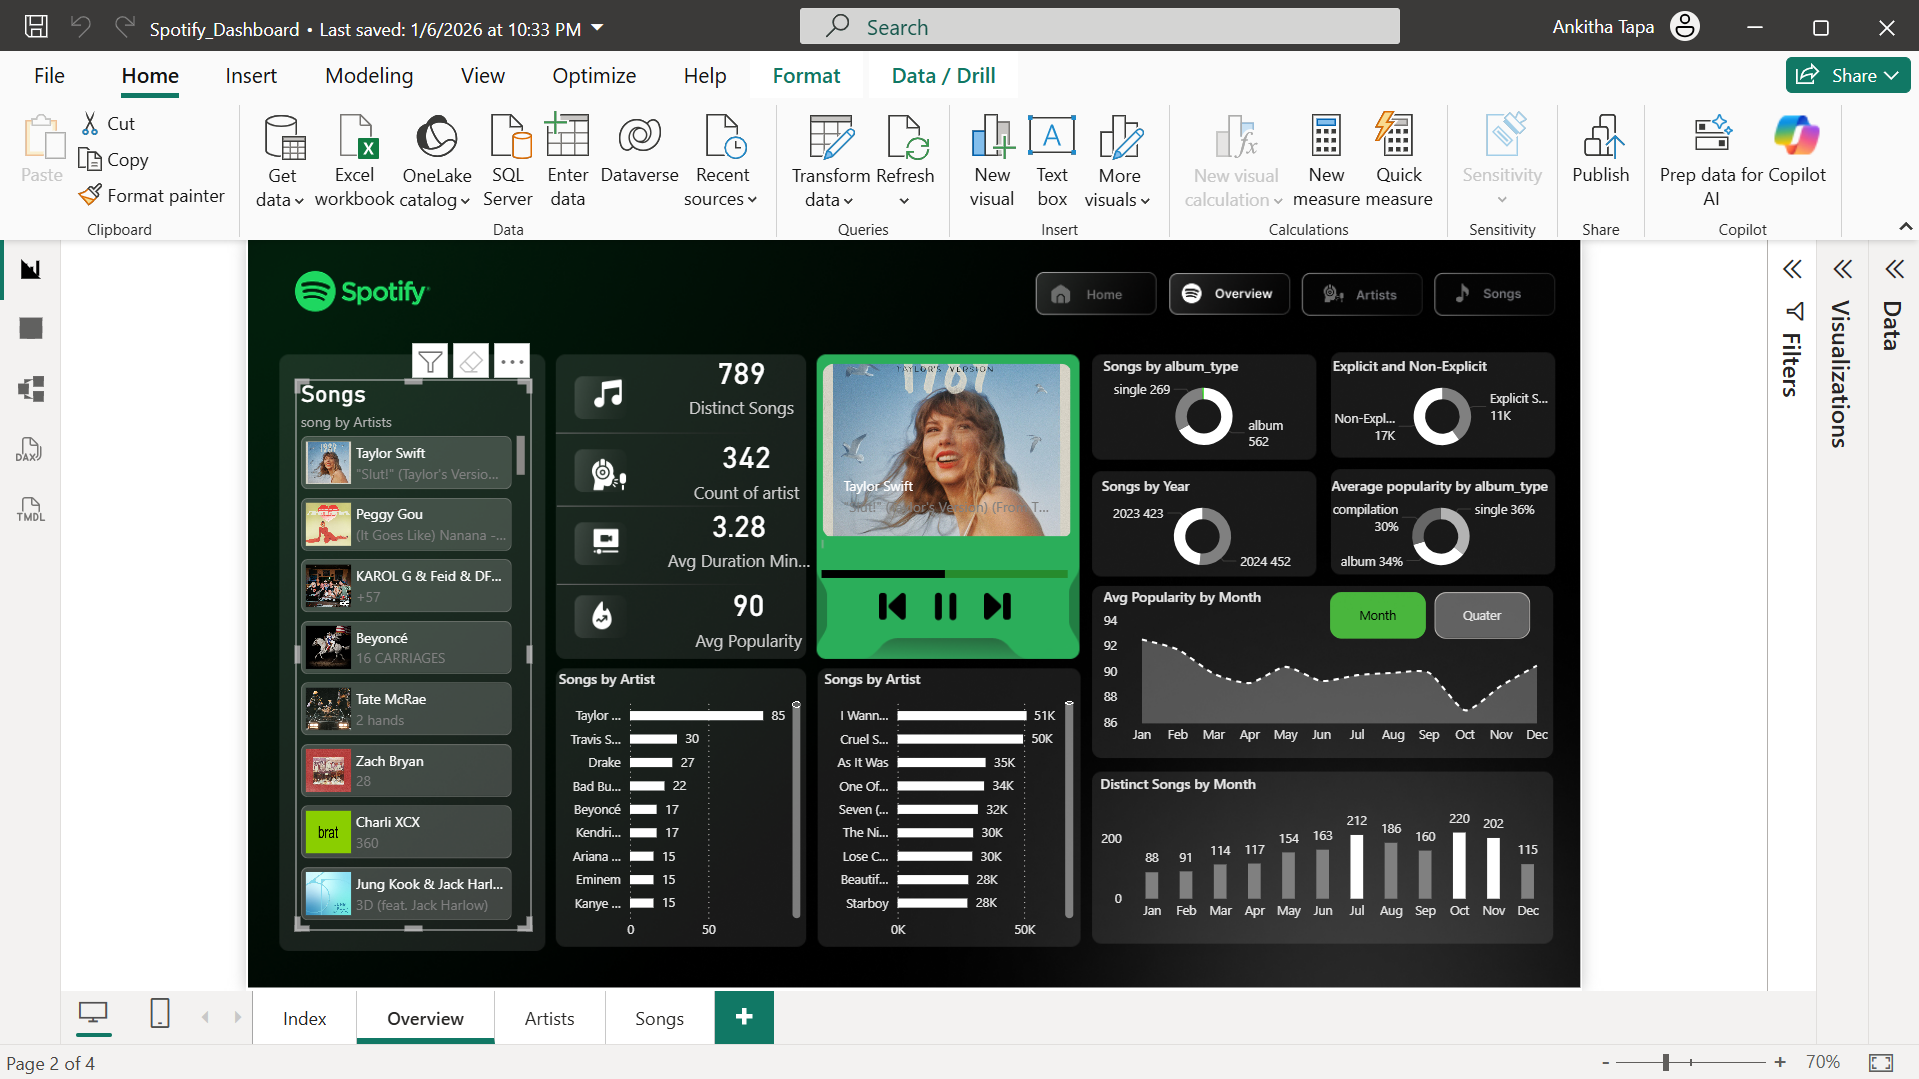

This screenshot's page, from the dashboard's own definition file:
{"tool":"powerbi","page":{"name":"Overview","canvas":[1280,720],"ordinal":1},"visuals":[{"type":"clusteredBarChart","title":"Songs by Artist","fields":{"Y":["_Measures.Distinct Songs"],"Category":["Top-50-World.artist"]},"box":[295,411.6,241.8,267.5],"z":0},{"type":"clusteredBarChart","title":"Songs by Artist","fields":{"Category":["Top-50-World.song"],"Y":["Sum(Top-50-World.popularity)"]},"box":[548.8,411.6,248.7,267.5],"z":1000},{"type":"areaChart","fields":{"Category":["Top-50-World.Month"],"Y":["_Measures.Avg Popularity"]},"box":[816.6,332.6,439.2,159.9],"z":2000},{"type":"advancedSlicerVisual","fields":{"Values":["Slicer_option.Slicer_option"]},"box":[1034.1,332.6,202.6,55.4],"z":3000},{"type":"donutChart","title":"Songs by album_type","fields":{"Category":["Top-50-World.album_type"],"Y":["_Measures.Distinct Songs"]},"box":[816.6,110.9,202.6,98.1],"z":4000},{"type":"donutChart","title":"Explicit and Non-Explicit","fields":{"Y":["_Measures.Explicit Songs","_Measures.Non-Explicit Songs"]},"box":[1036.2,110.9,219.6,98.1],"z":5000},{"type":"donutChart","title":"Songs by Year","fields":{"Y":["_Measures.Distinct Songs"],"Category":["Top-50-World.Year"]},"box":[815.2,226.1,202.6,98.1],"z":6000},{"type":"donutChart","title":"Average popularity by album_type","fields":{"Y":["_Measures.Avg Popularity"],"Category":["Top-50-World.album_type"]},"box":[1034.9,226.1,219.6,98.1],"z":7000},{"type":"clusteredColumnChart","fields":{"Category":["Top-50-World.Month"],"Y":["_Measures.Distinct Songs"]},"box":[814.5,511.7,439.2,149.3],"z":8000},{"type":"card","fields":{"Values":["_Measures.Distinct Songs"]},"box":[399.8,94.3,149.7,82],"z":9000},{"type":"card","fields":{"Values":["Count(Top-50-World.artist)"]},"box":[410,176.3,139.4,80],"z":10000},{"type":"card","fields":{"Values":["_Measures.Avg Duration Minutes"]},"box":[395.7,241.9,153.8,82],"z":11000},{"type":"card","fields":{"Values":["_Measures.Avg Popularity"]},"box":[412.1,319.8,137.4,80],"z":12000},{"type":"image","box":[313.7,346.5,63.6,26.7],"z":13000},{"type":"image","box":[315.7,209.1,63.6,32.8],"z":14000},{"type":"image","box":[315.7,133.3,61.5,26.7],"z":15000},{"type":"image","box":[313.7,274.7,63.6,28.7],"z":16000},{"type":"advancedSlicerVisual","title":"Songs","fields":{"Values":["Top-50-World.song"]},"box":[47.2,133.3,225.5,529],"z":17000},{"type":"advancedSlicerVisual","title":"Songs","fields":{"Values":["Top-50-World.song"]},"box":[546.6,112.1,249.8,190.8],"z":18000},{"type":"hundredPercentStackedBarChart","fields":{"Y":["_Measures.Avg Popularity","Avg(Top-50-World.popularity)"]},"box":[545.9,282.3,246.6,69.8],"z":19000},{"type":"image","box":[600.2,336.5,40.3,29.5],"z":20000},{"type":"image","box":[701,336.5,40.3,29.5],"z":21000},{"type":"image","box":[651.4,336.5,38.8,29.5],"z":22000},{"type":"shape","box":[545.9,110.1,251.2,290],"z":23000},{"type":"actionButton","box":[758.4,30.5,116.3,40.3],"z":24000},{"type":"actionButton","box":[1012.7,30.5,116.3,40.3],"z":25000},{"type":"actionButton","box":[1139.9,30.5,116.3,40.3],"z":26000},{"type":"actionButton","box":[885.6,30.5,116.3,40.3],"z":27000}]}

Visuals, with their boxes on the page's 1280x720 design canvas (x1, y1, x2, y2). These are canvas units, not pixel positions in the 1919x1079 screenshot, which may show the page scaled, cropped or inside an application window:
"Songs by Artist" clusteredBarChart: BBox(295, 412, 537, 679)
"Songs by Artist" clusteredBarChart: BBox(549, 412, 798, 679)
areaChart - Top-50-World.Month x _Measures.Avg Popularity: BBox(817, 333, 1256, 492)
advancedSlicerVisual - Slicer_option.Slicer_option: BBox(1034, 333, 1237, 388)
"Songs by album_type" donutChart: BBox(817, 111, 1019, 209)
"Explicit and Non-Explicit" donutChart: BBox(1036, 111, 1256, 209)
"Songs by Year" donutChart: BBox(815, 226, 1018, 324)
"Average popularity by album_type" donutChart: BBox(1035, 226, 1254, 324)
clusteredColumnChart - Top-50-World.Month x _Measures.Distinct Songs: BBox(814, 512, 1254, 661)
card - _Measures.Distinct Songs: BBox(400, 94, 550, 176)
card - Count(Top-50-World.artist): BBox(410, 176, 549, 256)
card - _Measures.Avg Duration Minutes: BBox(396, 242, 550, 324)
card - _Measures.Avg Popularity: BBox(412, 320, 550, 400)
image: BBox(314, 346, 377, 373)
image: BBox(316, 209, 379, 242)
image: BBox(316, 133, 377, 160)
image: BBox(314, 275, 377, 303)
"Songs" advancedSlicerVisual: BBox(47, 133, 273, 662)
"Songs" advancedSlicerVisual: BBox(547, 112, 796, 303)
hundredPercentStackedBarChart - _Measures.Avg Popularity x Avg(Top-50-World.popularity): BBox(546, 282, 792, 352)
image: BBox(600, 336, 640, 366)
image: BBox(701, 336, 741, 366)
image: BBox(651, 336, 690, 366)
shape: BBox(546, 110, 797, 400)
actionButton: BBox(758, 30, 875, 71)
actionButton: BBox(1013, 30, 1129, 71)
actionButton: BBox(1140, 30, 1256, 71)
actionButton: BBox(886, 30, 1002, 71)
